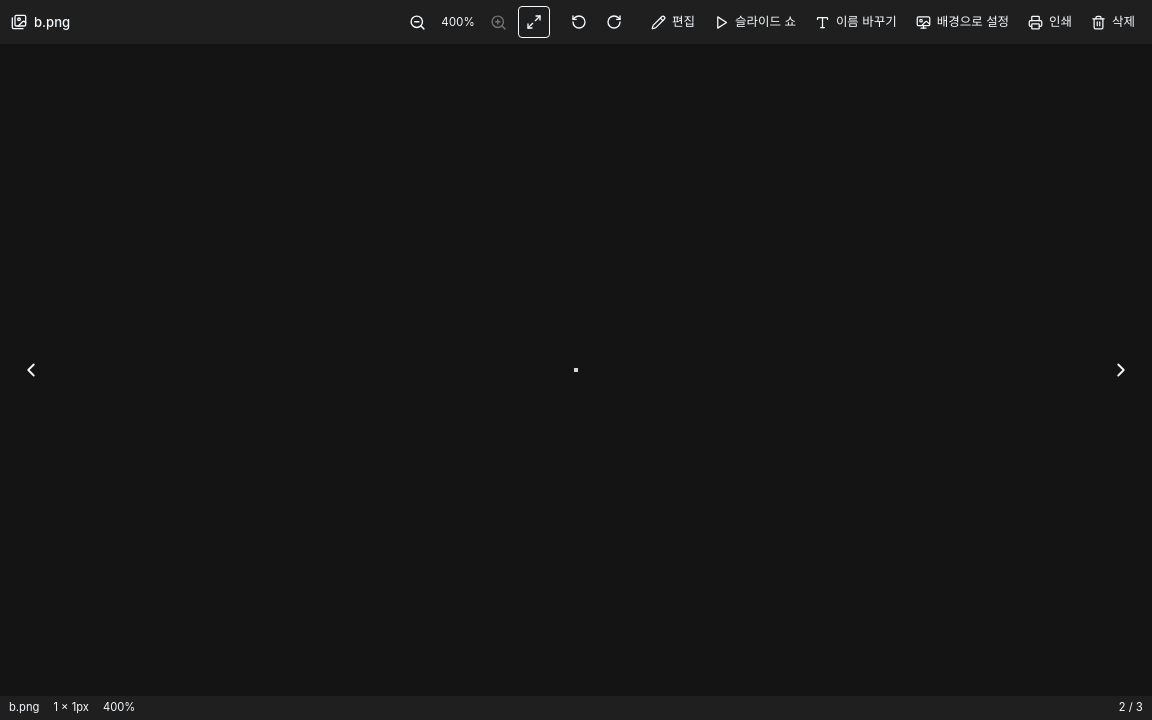
it: PhotosApp 이름 바꾸기 › 이름 바꾸기가 현재 이름이 담긴 입력을 연다
The width and height of the screenshot is (1152, 720).
Step 1. Click the button "이름 바꾸기" → (856, 22), box [807, 6, 905, 38]
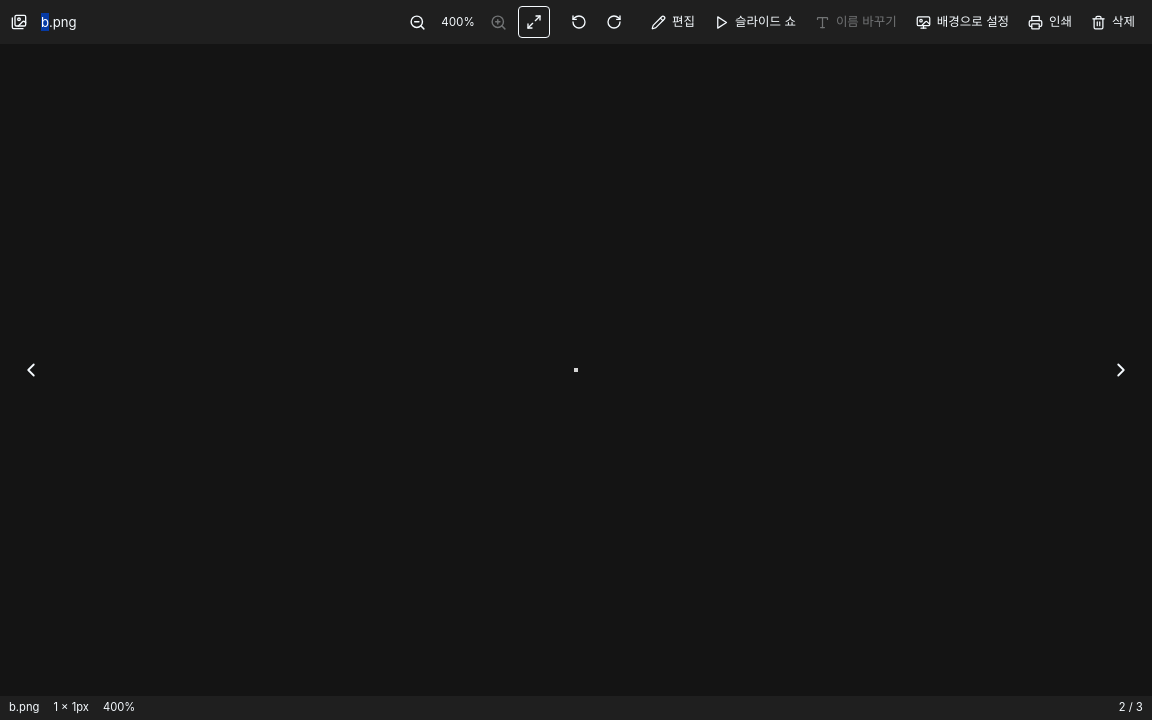
Check: the field named "사진 이름" holds "b.png", box [34, 9, 244, 35]
